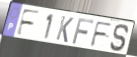1: (43, 13, 54, 41)
F: (15, 8, 41, 38), (89, 21, 114, 48), (71, 17, 95, 45)
K: (55, 15, 75, 44)
S: (109, 23, 130, 53)
